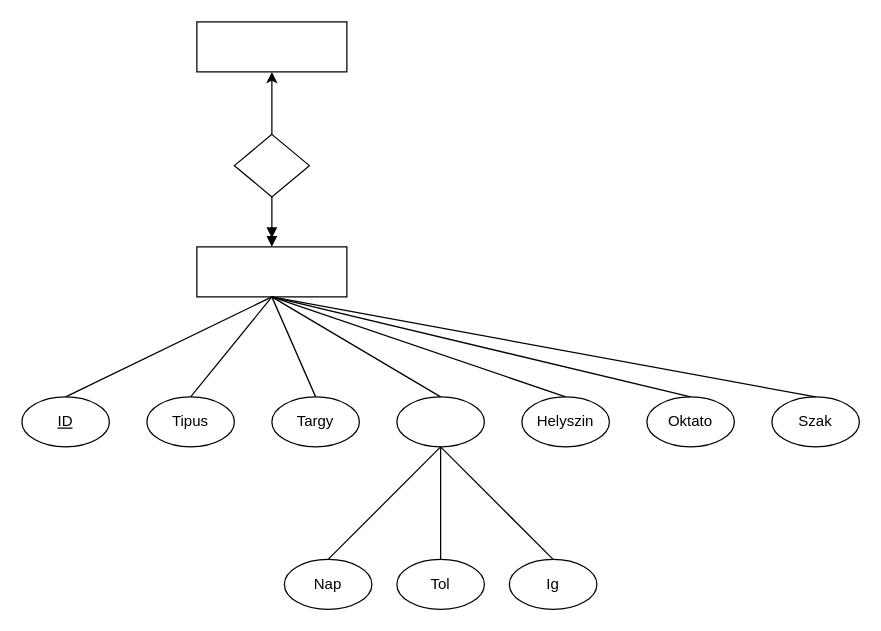
The diagram is 881 pixels wide and 631 high, and some of its shapes have lost their labels. The box of each missing label's shape, as (x1, y1, x2, y2) in pixels:
Idopont: (396, 396, 484, 447)
Ora: (196, 246, 347, 297)
Orarend: (196, 21, 347, 72)
